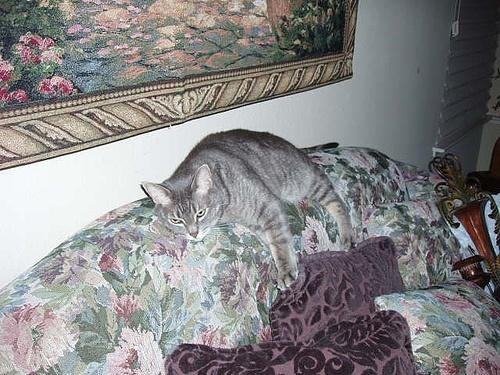cat: (140, 128, 353, 291)
sofa: (1, 147, 500, 375)
